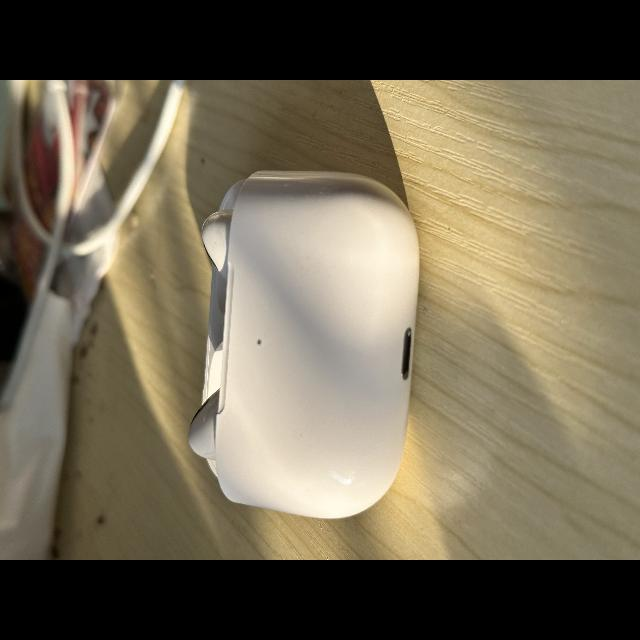AirPods Pro: (188, 170, 419, 518)
